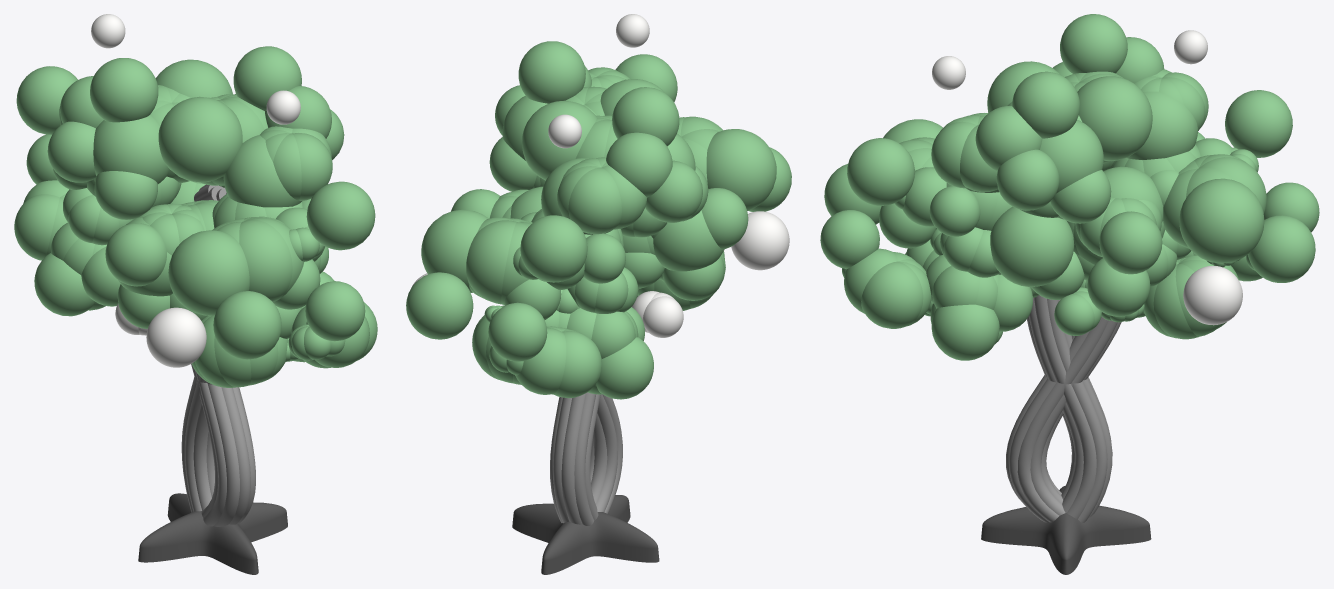
File: tree.glb
The picture shows the model from 3 angles, left to right: view 1: azimuth 30°, elevation 25°; view 2: azimuth 150°, elevation 25°; view 3: azimuth 270°, elevation 25°; orthographic projection.
Visible parts, largest first — view 1: Body337, Body38, Body1, Body508, Body509, Body510; view 2: Body337, Body38, Body1, Body508, Body511, Body509, Body510; view 3: Body337, Body38, Body1, Body512, Body509, Body510.
Boxes of the visible parts, box(x1,y1,x2,y2) form: Body337: box(14, 46, 377, 387); Body38: box(181, 184, 255, 526); Body1: box(138, 493, 287, 574); Body508: box(146, 307, 206, 367); Body509: box(91, 14, 125, 48); Body510: box(266, 90, 300, 124); Body337: box(406, 41, 791, 399); Body38: box(550, 392, 622, 525); Body1: box(512, 495, 659, 574); Body508: box(731, 211, 789, 270); Body511: box(632, 291, 683, 337); Body509: box(548, 114, 581, 148); Body510: box(616, 14, 649, 47); Body337: box(820, 14, 1319, 360); Body38: box(1006, 295, 1121, 522); Body1: box(981, 485, 1151, 574); Body512: box(1183, 266, 1242, 325); Body509: box(1174, 30, 1207, 64); Body510: box(932, 56, 965, 89).
Size of the model in its own units: 5.13 by 9.82 by 9.12.
